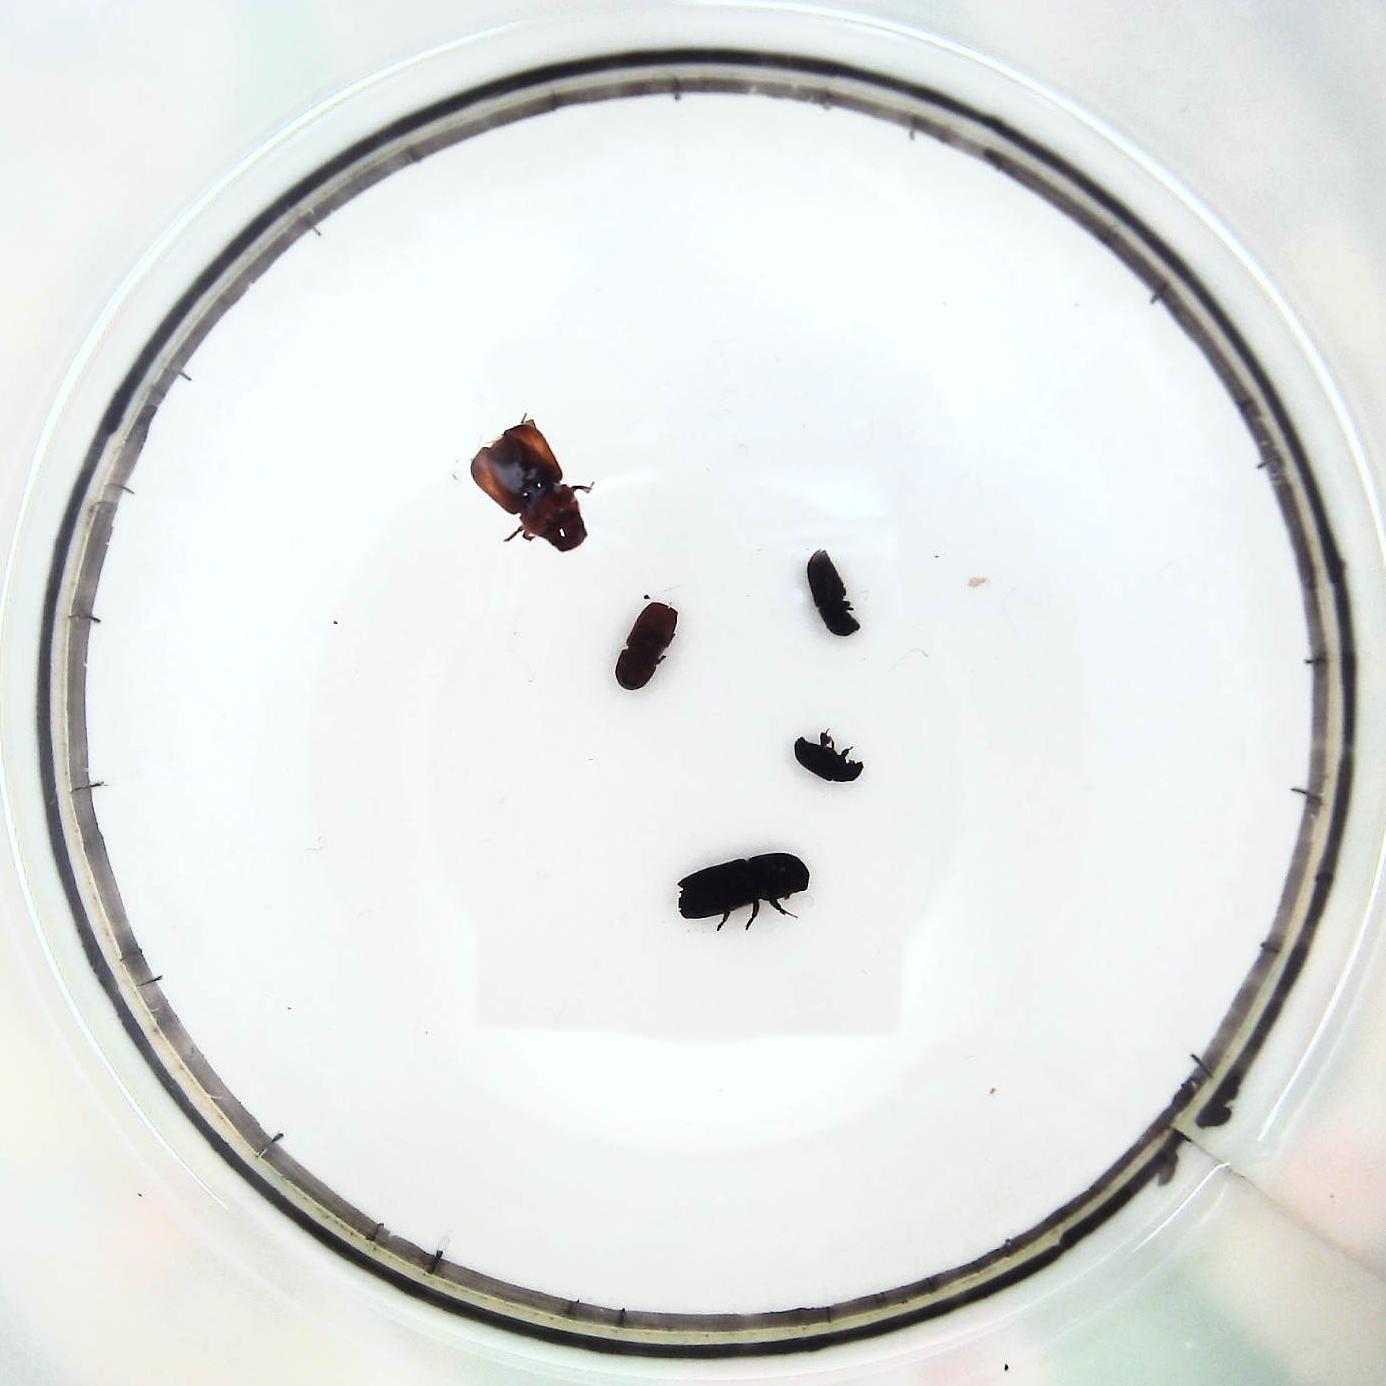Boerner: (676, 849, 814, 932)
Leconte: (470, 421, 589, 558)
Linnaeus: (610, 602, 679, 689)
armandi: (805, 547, 861, 638)
coleoptera: (791, 731, 862, 784)
